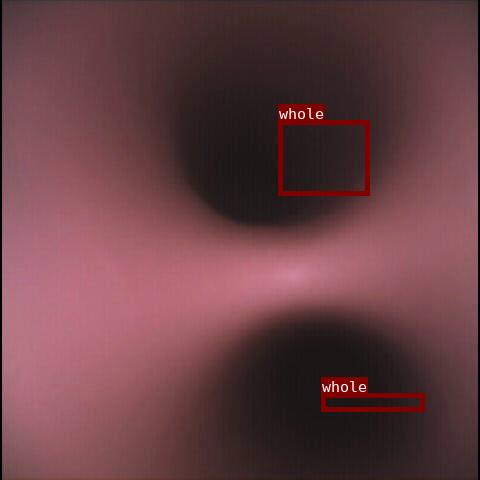whole: (278, 120, 369, 195), (321, 393, 424, 411)
